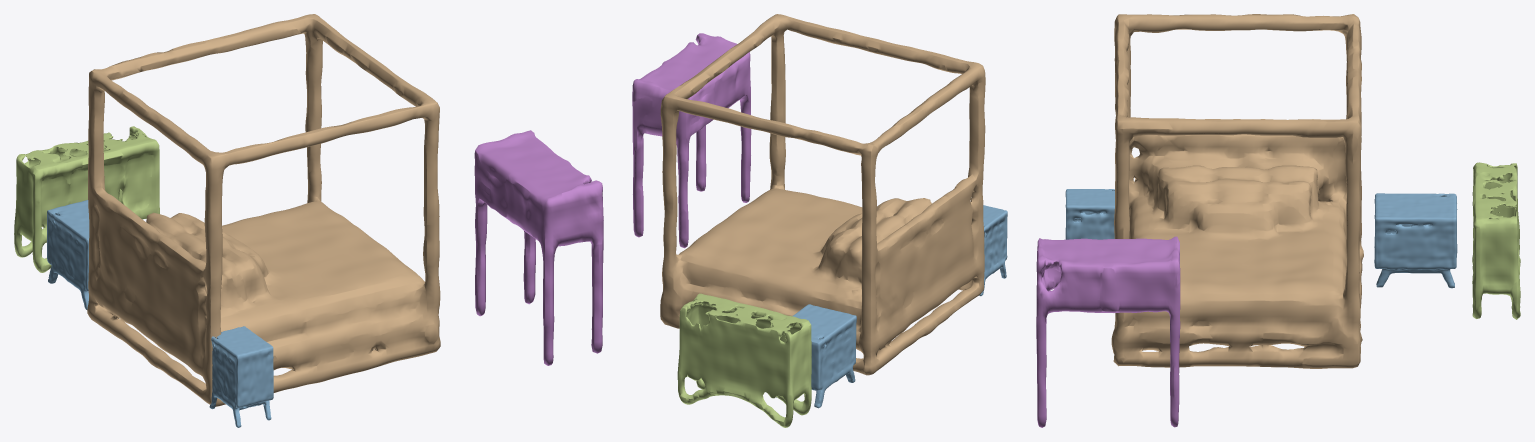
The model's file is SecondBedroom-11167_echoscene.glb.
The picture shows the model from 3 angles, left to right: view 1: azimuth 30°, elevation 25°; view 2: azimuth 150°, elevation 25°; view 3: azimuth 270°, elevation 25°; orthographic projection. The views are drawn at different scales.
Parts seen in each view (by area): view 1: world; view 2: world; view 3: world.
Boxes of the visible parts, bbox=[...] form: world: bbox=[14, 14, 603, 427]; world: bbox=[632, 14, 1007, 427]; world: bbox=[1036, 14, 1520, 427].
Size of the model in its own units: 3.36 by 2.28 by 4.
